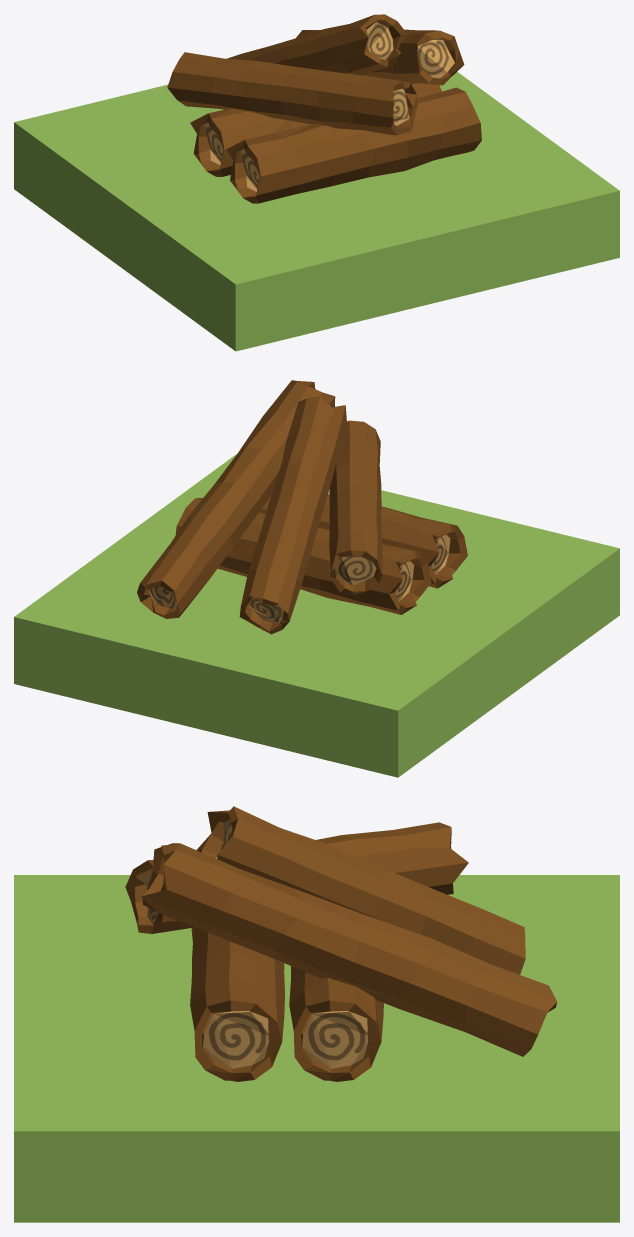
The model's file is LogWood 1.fbx.
3 renders of one model, top to bottom at view 1: azimuth 30°, elevation 25°; view 2: azimuth 150°, elevation 25°; view 3: azimuth 270°, elevation 25°, orthographic. The views are drawn at different scales.
Parts seen in each view (by area): view 1: Cylinder.002; view 2: Cylinder.002; view 3: Cylinder.002.
Part boxes in pixels (box(x1,y1,x2,y2)): Cylinder.002: box(14, 14, 619, 351); Cylinder.002: box(14, 380, 619, 777); Cylinder.002: box(14, 806, 619, 1222).
Bounding box in the file's own units: 300 × 168 × 300.
3 materials, 1 textured.
